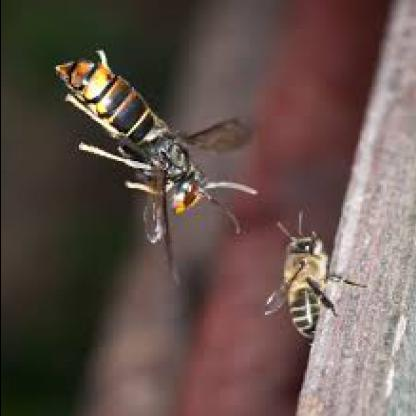asian: (52, 38, 265, 246)
